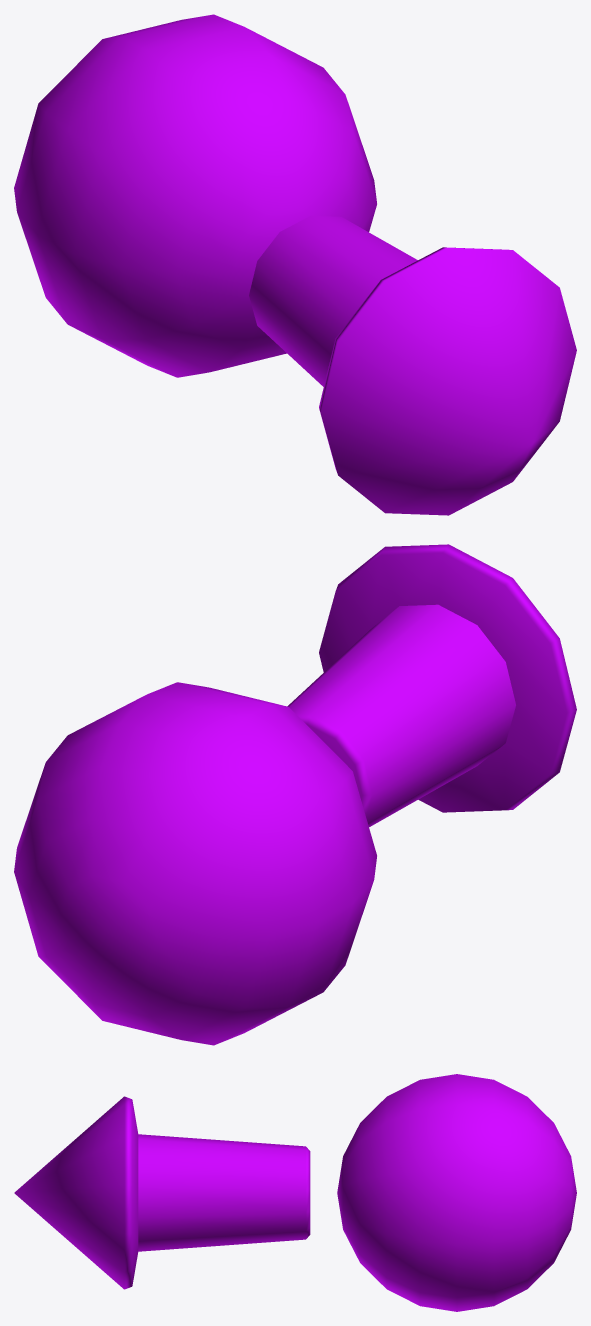
The model's file is Gizmo_ObjectSpawner_Collider_None.glb.
The picture shows the model from 3 angles, top to bottom: view 1: azimuth 30°, elevation 25°; view 2: azimuth 150°, elevation 25°; view 3: azimuth 270°, elevation 25°; orthographic projection. The views are drawn at different scales.
Visible parts, largest first — view 1: Guizmo_ObjectSpwaner_Collider_None; view 2: Guizmo_ObjectSpwaner_Collider_None; view 3: Guizmo_ObjectSpwaner_Collider_None.
Part boxes in pixels (x1,y1,x2,y2): Guizmo_ObjectSpwaner_Collider_None: [14, 14, 576, 515]; Guizmo_ObjectSpwaner_Collider_None: [14, 544, 576, 1045]; Guizmo_ObjectSpwaner_Collider_None: [14, 1074, 576, 1311].
Bounding box in the file's own units: 0.8662 × 0.8238 × 2.03.
Materials: 1 (1 with a texture image).
